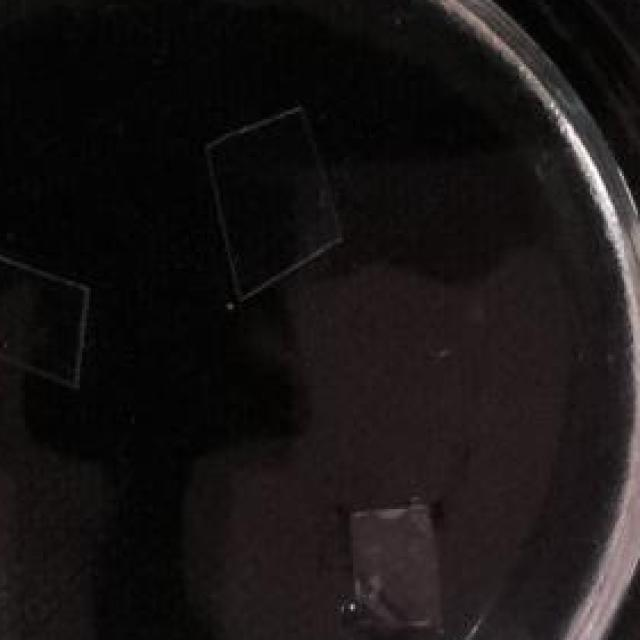Microplastic: (194, 95, 346, 307), (340, 495, 456, 640), (0, 230, 96, 392)
